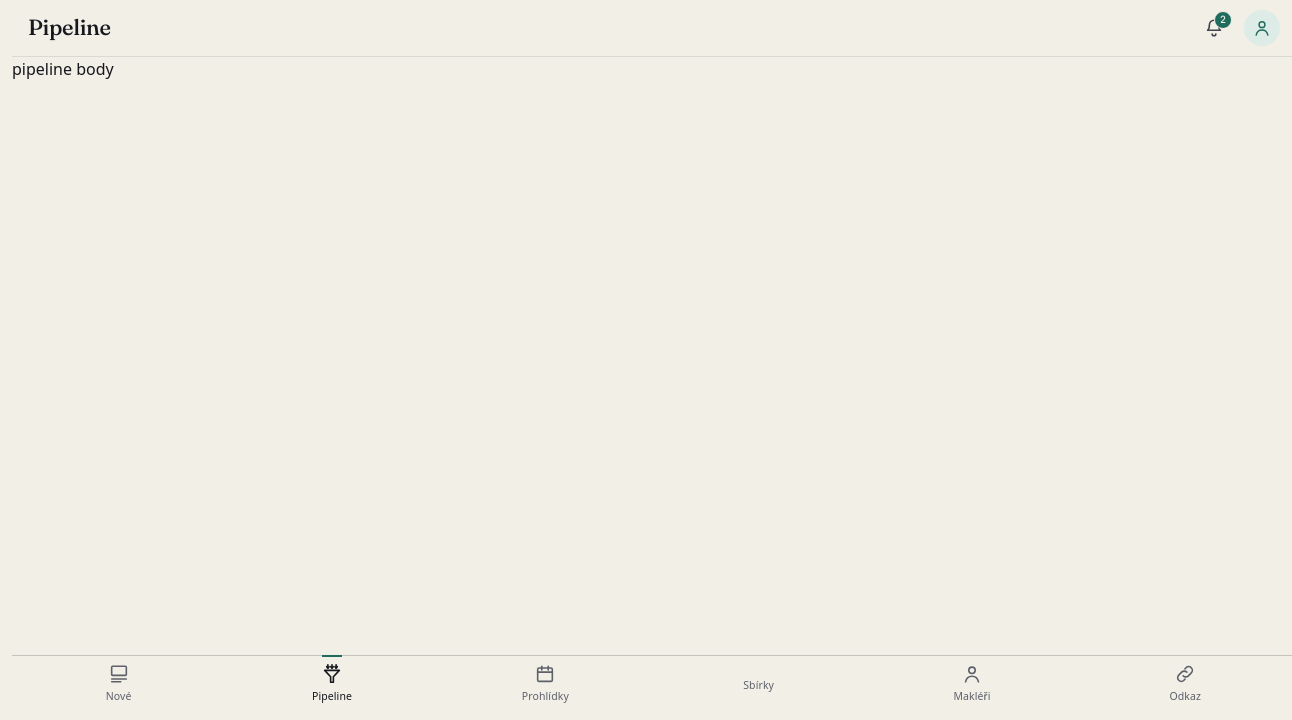
Test: phone bell › opens Notifications under the back affordance, the tab it came from still marked
The width and height of the screenshot is (1292, 720).
Step 1. Click the link named "Upozornění: 2 nepřečtená" → [1218, 25], box [1203, 11, 1232, 39]
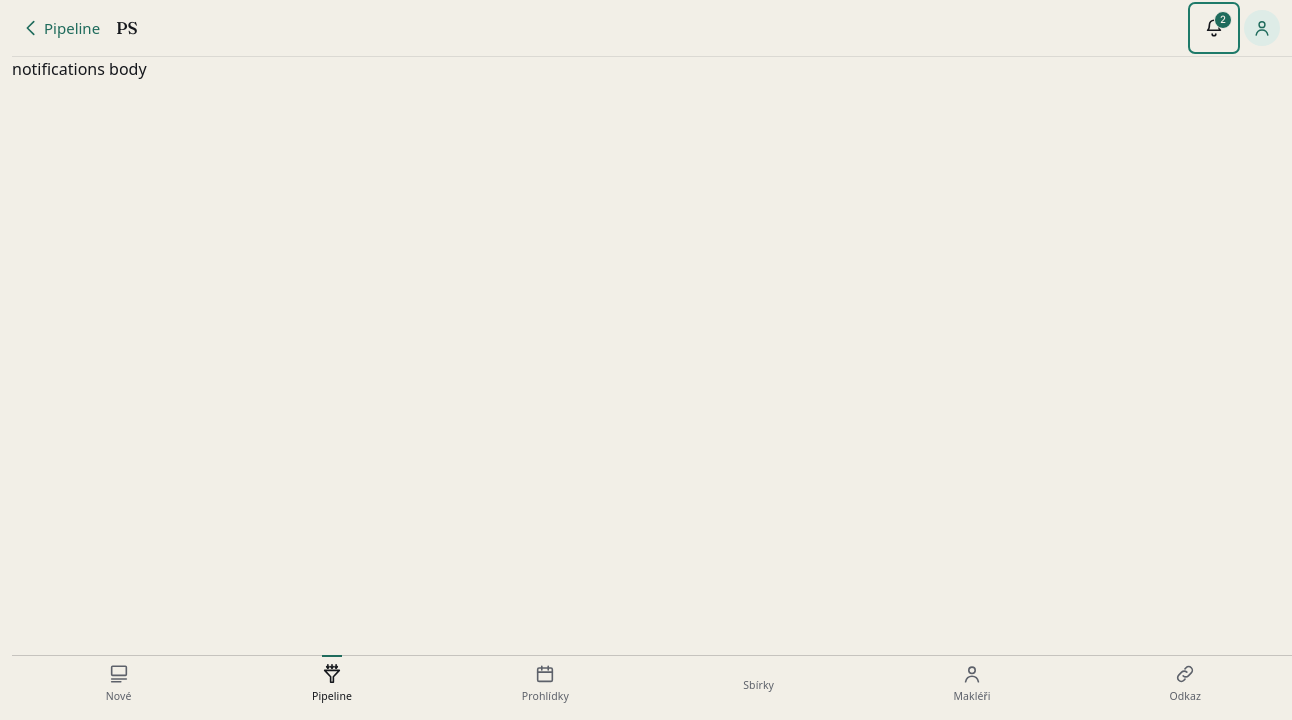
Expected: the button "Pipeline" is shown, [16, 6, 108, 50]
Expected: the text "notifications body" is shown, [12, 58, 147, 80]
